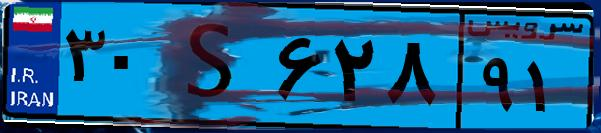0: (110, 28, 158, 98)
1: (525, 38, 570, 115)
2: (330, 28, 385, 110)
3: (57, 26, 110, 100)
6: (270, 28, 330, 110)
8: (385, 28, 445, 110)
9: (475, 38, 525, 113)
S: (158, 12, 270, 120)
